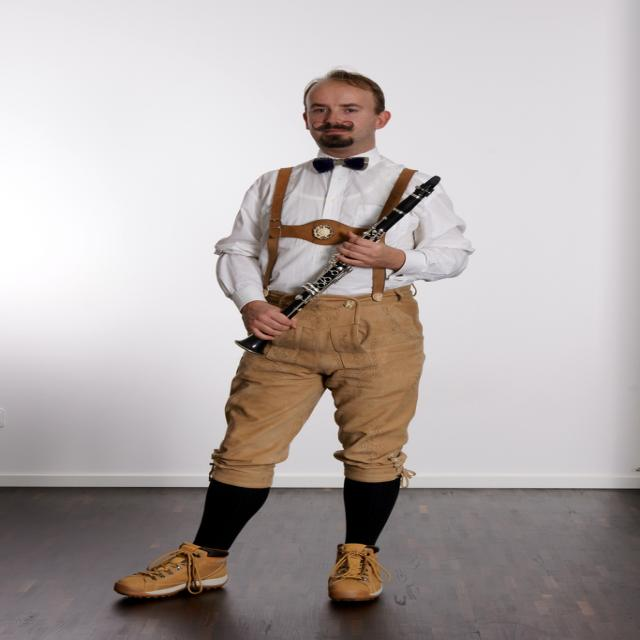clarinet: (230, 172, 446, 361)
